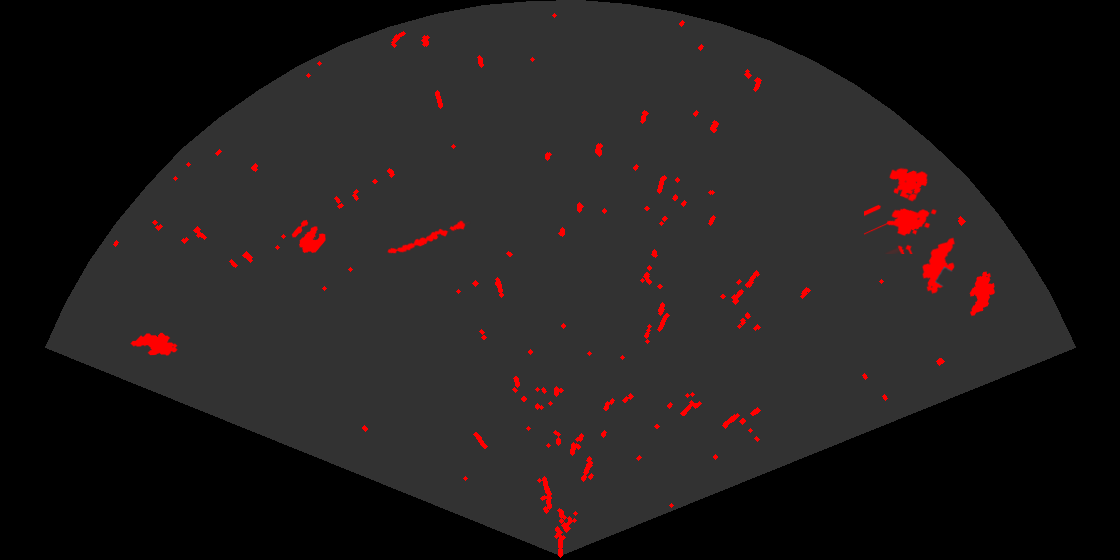AUV: (920, 236, 957, 296), (968, 270, 997, 317), (129, 331, 179, 357)
ball: (290, 218, 327, 255)
cage: (864, 166, 939, 254)
chain: (386, 219, 471, 255)
